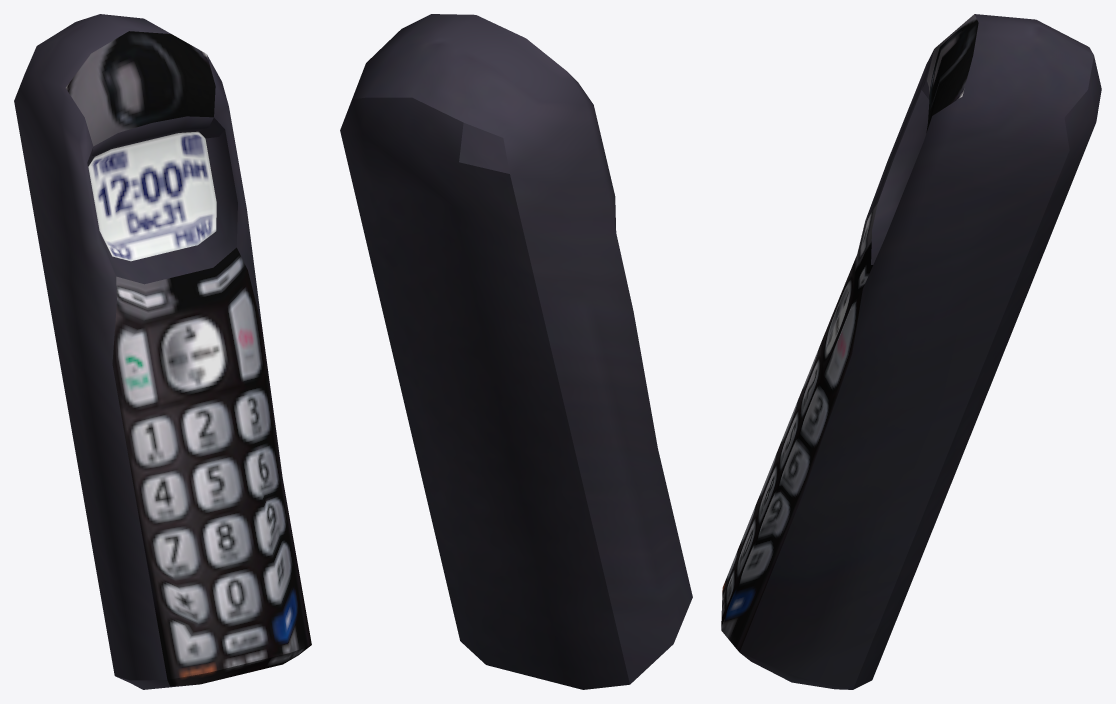
File: MobileOfficePhone.FBX
The picture shows the model from 3 angles, left to right: view 1: azimuth 30°, elevation 25°; view 2: azimuth 150°, elevation 25°; view 3: azimuth 270°, elevation 25°; orthographic projection. The views are drawn at different scales.
Parts seen in each view (by area): view 1: mobileOfficePhone; view 2: mobileOfficePhone; view 3: mobileOfficePhone.
Part boxes in pixels (box(x1,y1,x2,y2)): mobileOfficePhone: box(14, 14, 311, 689); mobileOfficePhone: box(340, 14, 692, 689); mobileOfficePhone: box(721, 14, 1101, 689).
Bounding box in the file's own units: 2.09 × 7.26 × 3.91.
